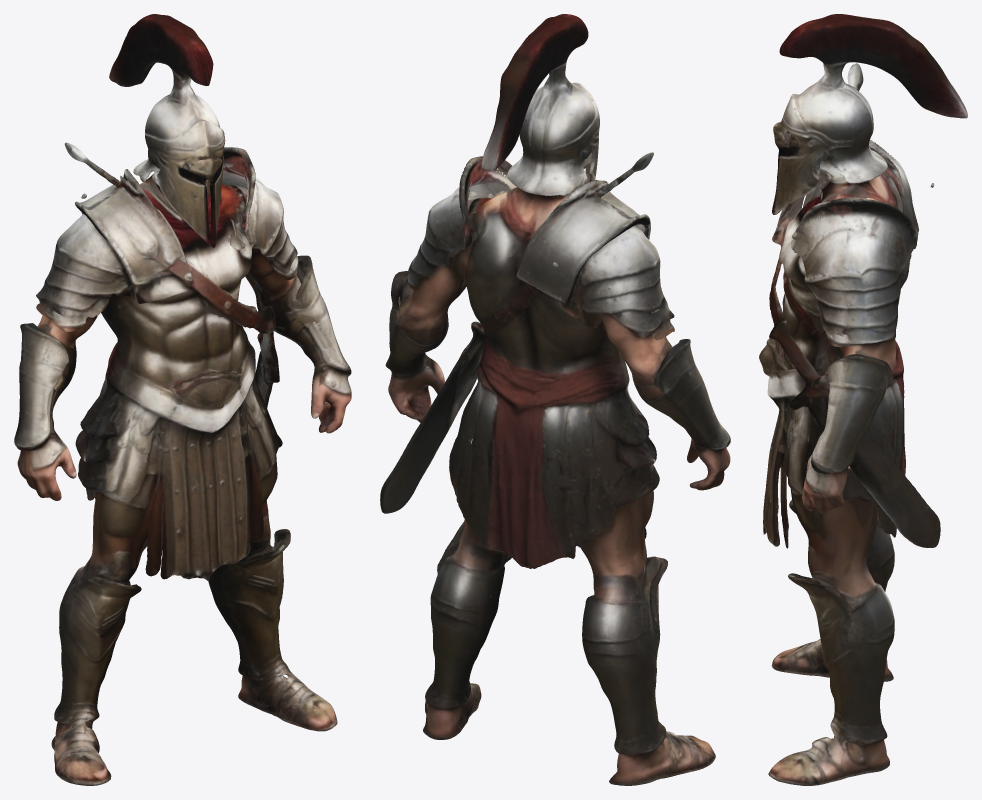
Rendered from warrior.glb.
3 renders of one model, left to right at view 1: azimuth 30°, elevation 25°; view 2: azimuth 150°, elevation 25°; view 3: azimuth 270°, elevation 25°, orthographic. The views are drawn at different scales.
Parts seen in each view (by area): view 1: Object_4, Object_6, Object_5; view 2: Object_5, Object_4, Object_6; view 3: Object_4, Object_5, Object_6.
Boxes of the visible parts, x1,y1,x2,y2 form: Object_4: (14,14,351,785); Object_6: (19,27,351,580); Object_5: (19,169,331,740); Object_5: (380,181,709,785); Object_4: (385,14,730,785); Object_6: (385,22,714,567); Object_4: (768,14,967,785); Object_5: (759,145,940,772); Object_6: (761,63,866,603).
Bounding box in the file's own units: 0.9771 × 2 × 0.5375.
1 material, 1 textured.
